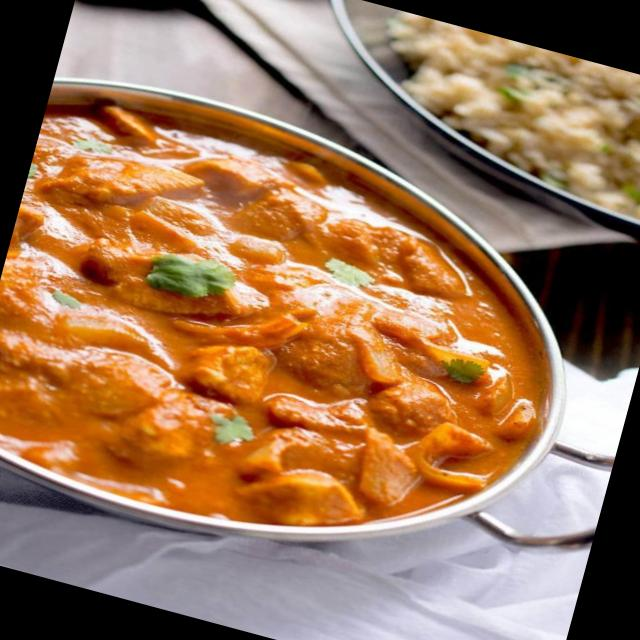chicken: (0, 73, 567, 586)
